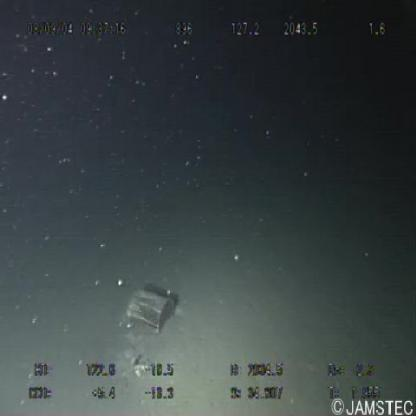Rác: (128, 286, 180, 336)
